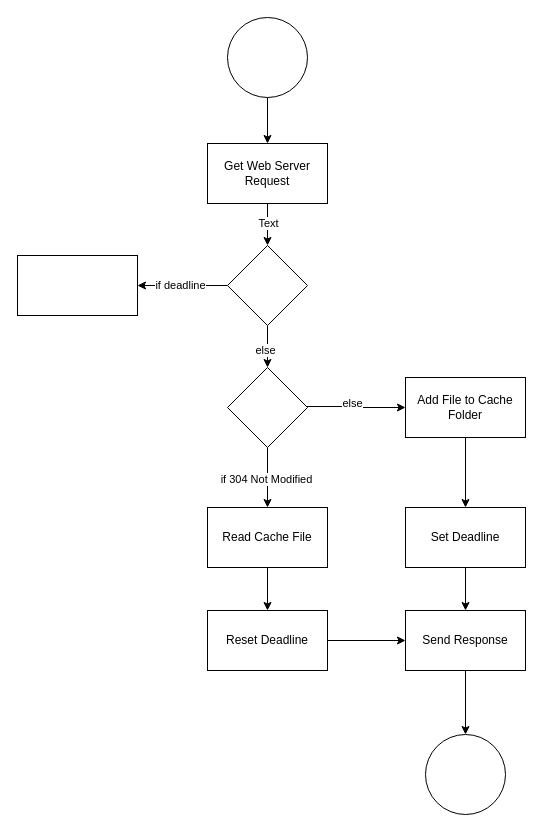
The diagram is 543 pixels wide and 832 high, and some of its shapes have lost their labels. Here are the shapes that lost their labels. From the top down, the centre of each, then its label:
At point (267, 57): "Start".
At point (77, 285): "delete file".
At point (465, 774): "End".
